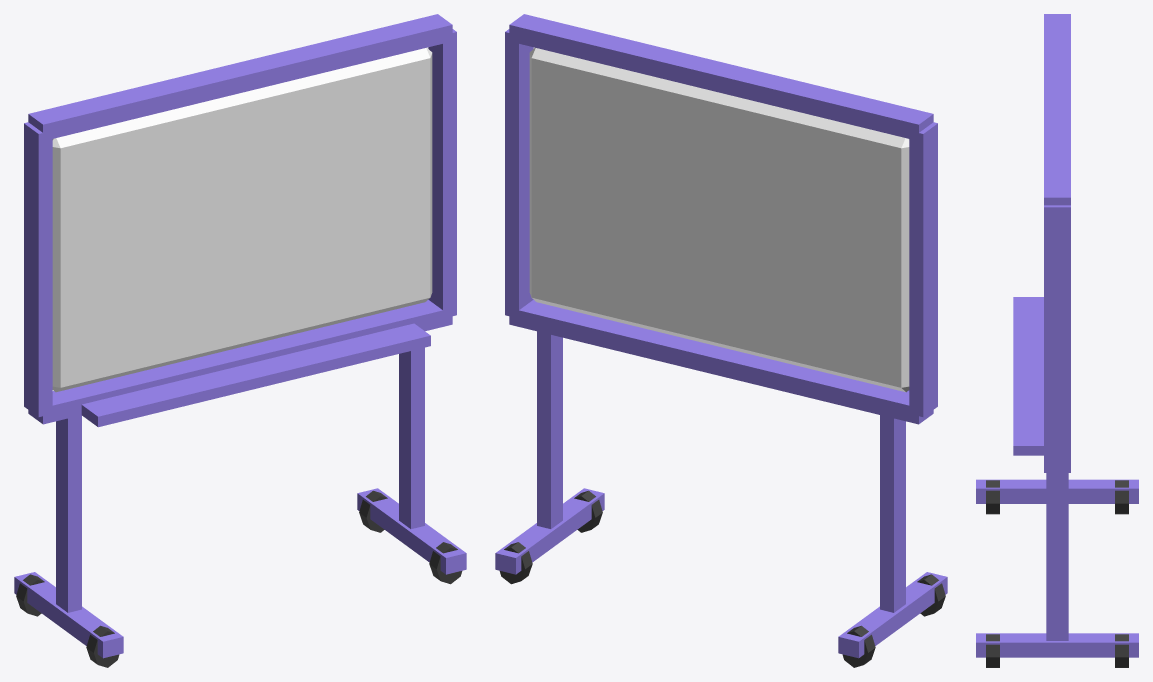
3 renders of one model, left to right at view 1: azimuth 30°, elevation 25°; view 2: azimuth 150°, elevation 25°; view 3: azimuth 270°, elevation 25°, orthographic. The views are drawn at different scales.
Visible parts, largest first — view 1: Writing surface, Frame rail.001, Marker ledge, Frame rail, Frame upright, Frame upright.001, Stand, Stand.001, Caster beam, Caster beam.001; view 2: Writing surface, Frame rail.001, Frame rail, Frame upright, Frame upright.001, Stand.001, Stand, Caster beam, Caster beam.001; view 3: Frame upright.001, Frame rail.001, Marker ledge, Stand.001, Caster beam.001, Caster beam, Wheel, Wheel.001, Wheel.002, Wheel.003.
Boxes of the visible parts, x1,y1,x2,y2 form: Writing surface: (52,47,432,392); Frame rail.001: (28,14,452,141); Marker ledge: (81,323,430,427); Frame rail: (28,299,452,424); Frame upright: (24,122,52,417); Frame upright.001: (428,29,456,318); Stand: (56,415,81,612); Stand.001: (399,347,424,528); Caster beam: (14,572,123,658); Caster beam.001: (357,488,466,574); Writing surface: (529,47,909,392); Frame rail.001: (509,14,933,139); Frame rail: (509,299,933,424); Frame upright: (909,122,937,417); Frame upright.001: (505,29,533,315); Stand.001: (537,331,562,528); Stand: (880,415,905,612); Caster beam: (838,572,947,658); Caster beam.001: (495,488,604,574); Frame upright.001: (1044,205,1070,467); Frame rail.001: (1044,14,1070,205); Marker ledge: (1013,297,1043,455); Stand.001: (1046,473,1068,640); Caster beam.001: (976,633,1138,657); Caster beam: (976,479,1138,503); Wheel: (986,480,999,514); Wheel.001: (1115,480,1128,514); Wheel.002: (986,634,999,667); Wheel.003: (1115,634,1128,667).
Bounding box in the file's own units: 131 × 158 × 48.
